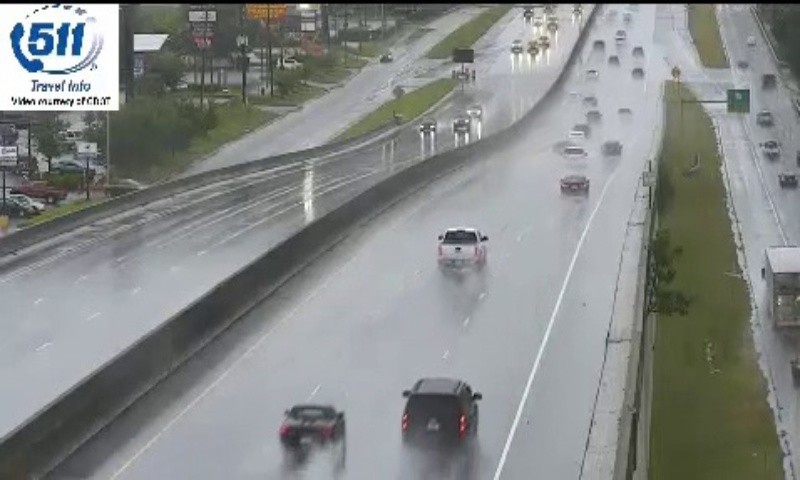car: (401, 379, 475, 447), (282, 405, 343, 451), (438, 228, 487, 268), (560, 175, 587, 195)
